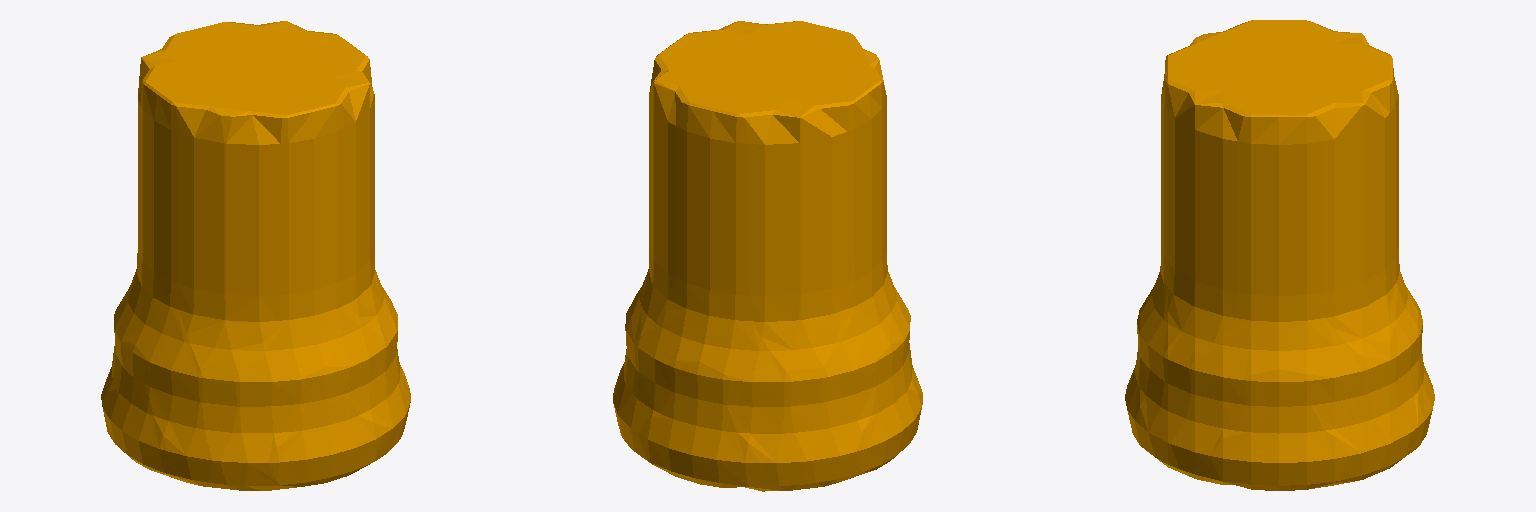
The robot description file, URDF, robot "cylinder_../../meshes/cylinders/cylinder_58.stl":
<?xml version="1.0" encoding="utf-8"?>  <robot name="cylinder_../../meshes/cylinders/cylinder_58.stl">   <link name="cylinder_../../meshes/cylinders/cylinder_58.stl">     <visual>       <geometry>         <mesh filename="../meshes/cylinders/cylinder_58.stl" scale="1 1 1"/>       </geometry>     </visual>     <collision>       <geometry>         <mesh filename="../meshes/cylinders/cylinder_58.stl" scale="1 1 1"/>       </geometry>     </collision>     <inertial>        <origin         xyz="0 0 0"         rpy="0 0 0" />       <mass value="0.1198752411818117"/>       <origin rpy="0 0 0" xyz="0 0 0"/>       <inertia ixx="6.998787101087097e-05" ixy="-1.6298431602184263e-08" ixz="3.4115571136171393e-10" iyy="6.998840695752895e-05" iyz="-1.6422989340288845e-09" izz="3.399764347834569e-05"/>     </inertial>   </link>  </robot>

--- Facts derived from the render (not from the file) ---
3 views of the same robot in one strip: view 1: azimuth 30°, elevation 25°; view 2: azimuth 150°, elevation 25°; view 3: azimuth 270°, elevation 25° (orthographic).
Robot: cylinder_../../meshes/cylinders/cylinder_58.stl — 1 links, 0 joints (none); root link cylinder_../../meshes/cylinders/cylinder_58.stl; default pose: every joint at zero.
Links seen in each view (by area): view 1: cylinder_../../meshes/cylinders/cylinder_58.stl; view 2: cylinder_../../meshes/cylinders/cylinder_58.stl; view 3: cylinder_../../meshes/cylinders/cylinder_58.stl.
Boxes of the visible links, x1,y1,x2,y2 form: cylinder_../../meshes/cylinders/cylinder_58.stl: [101, 21, 410, 490]; cylinder_../../meshes/cylinders/cylinder_58.stl: [613, 21, 922, 491]; cylinder_../../meshes/cylinders/cylinder_58.stl: [1125, 20, 1434, 490].
Size in the robot's own frame: 0.0558 by 0.0558 by 0.0736 metres.
1 mesh visuals loaded from 1 distinct referenced files (1 binary STL).